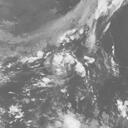cyclone: (45, 42, 90, 95)
